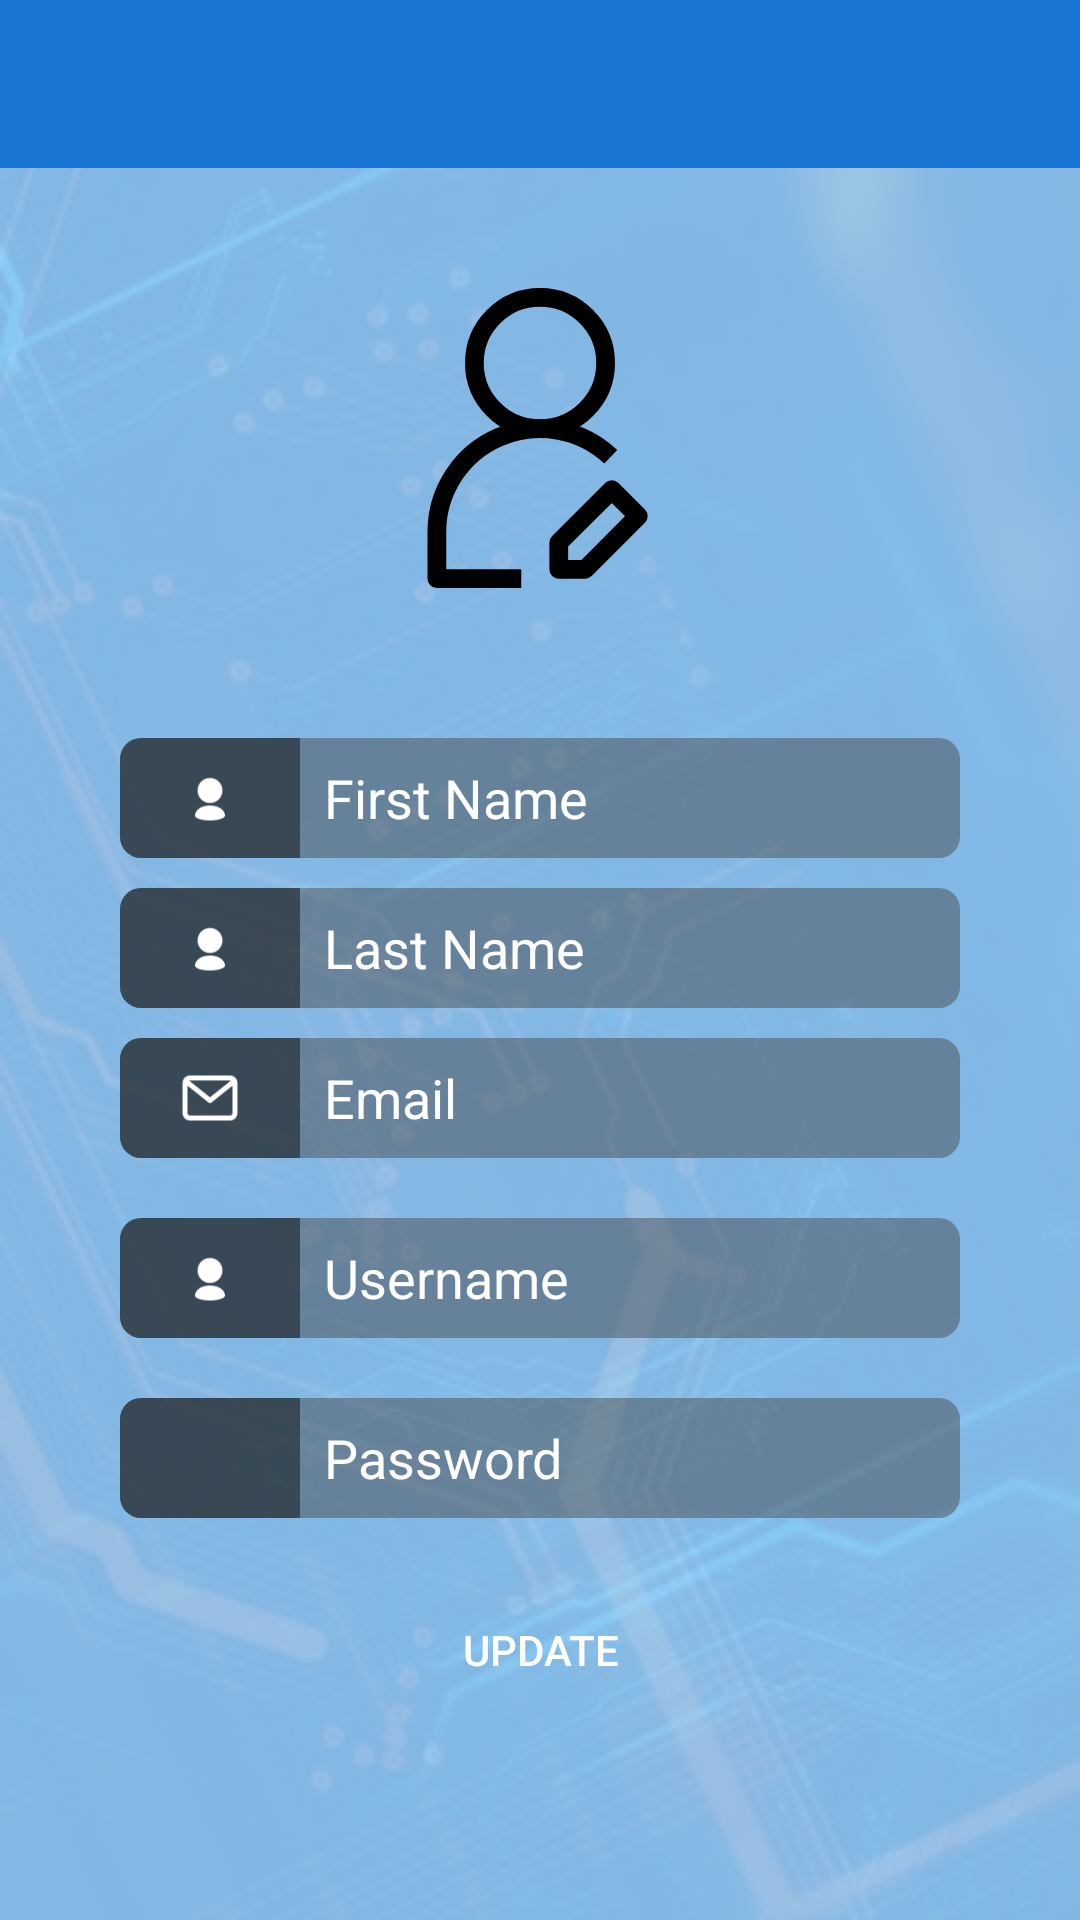

Where icons sit on this 1080 x 1920 app screen, as [x1, y1, x2, y2]:
create user: [120, 738, 300, 858], [120, 888, 300, 1008], [120, 1218, 300, 1338]
create user mail: [120, 1038, 300, 1158]
update user: [427, 288, 648, 588]
